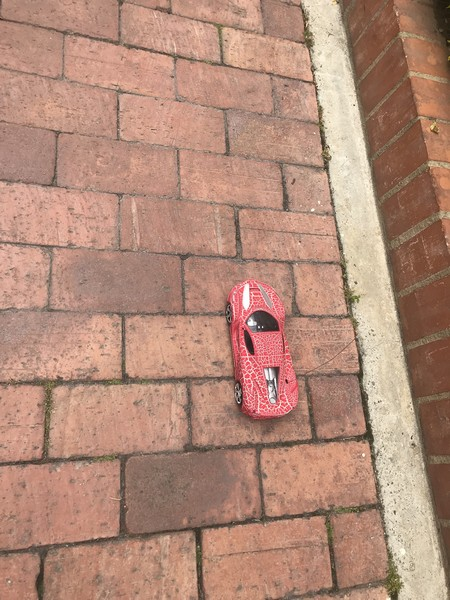RC: (224, 276, 300, 421)
